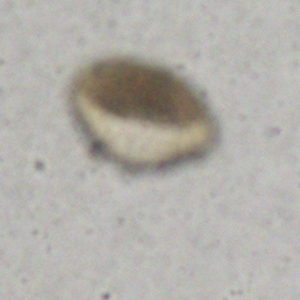Fasciola_hepatica_egg: (64, 55, 223, 174)
